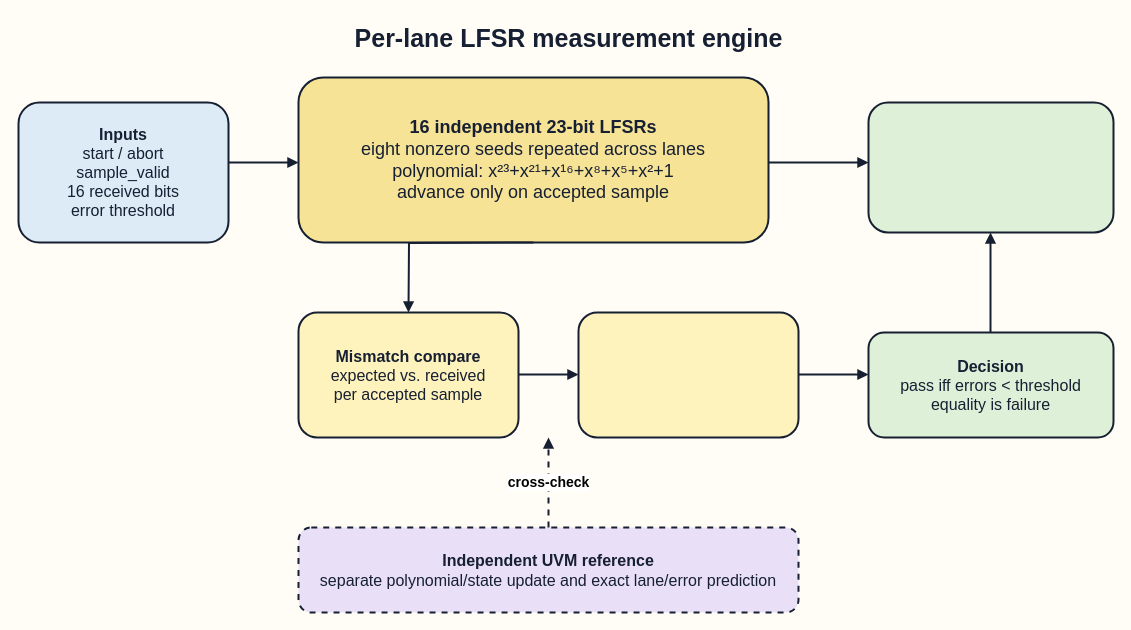
Image size: 1131x630. Some labels were removed from this diagram. The shapes that lost their labels are listed below. From the top down, each one's centre as x and y in pixels, then its label:
At pixel 990 167: "Outputs busy / done passed error_count".
At pixel 688 374: "16-bit error count saturates at 65,535 no wraparound".
